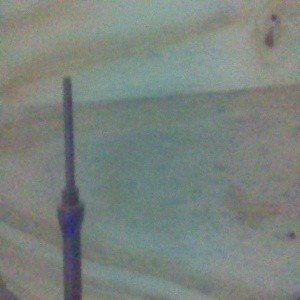obeng: (56, 76, 86, 300)
